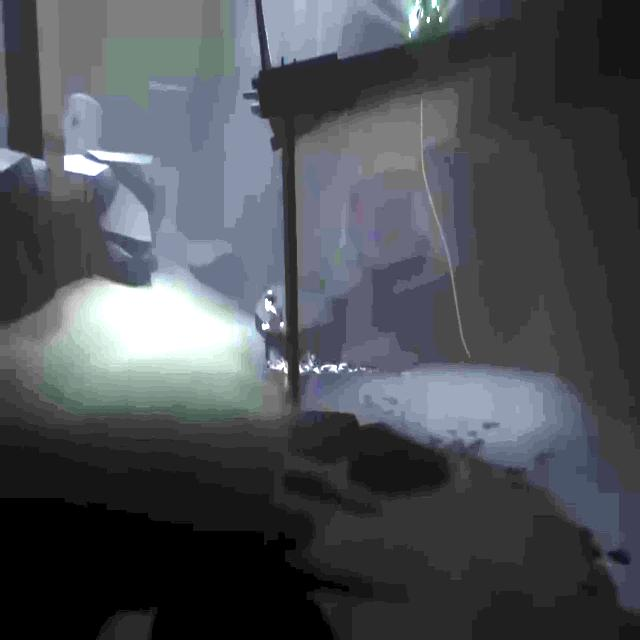boy: (261, 289, 284, 372)
